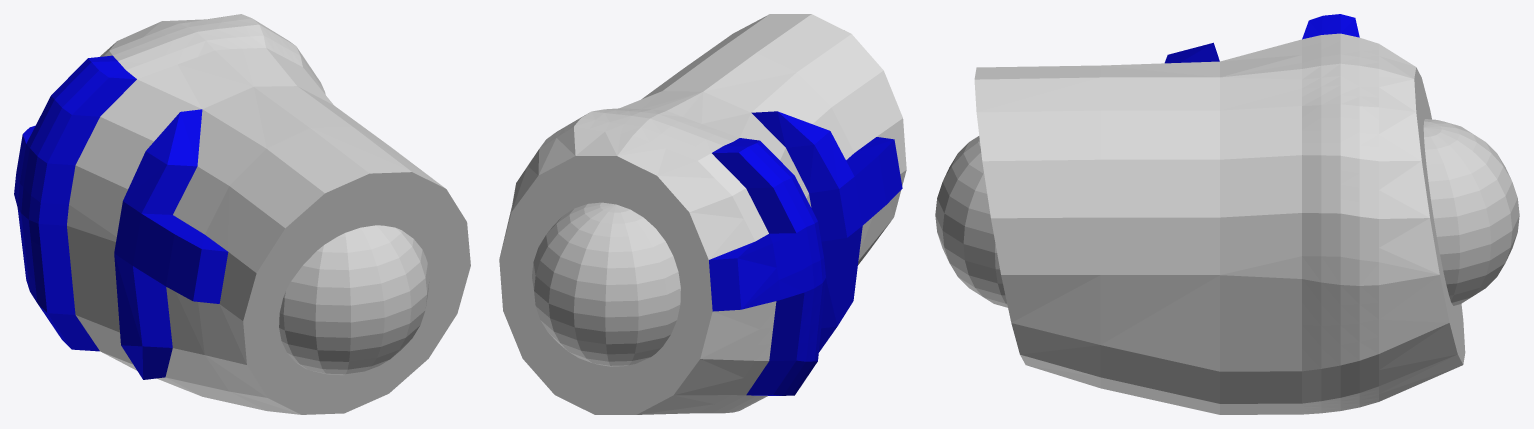
Rendered from espinillaizquierda.dae.
3 views of the same model, side by side, from view 1: azimuth 30°, elevation 25°; view 2: azimuth 150°, elevation 25°; view 3: azimuth 270°, elevation 25° (orthographic). The views are drawn at different scales.
Parts seen in each view (by area): view 1: shank_00_000, shank_00_001, shank_00_002; view 2: shank_00_000, shank_00_001, shank_00_002; view 3: shank_00_000, shank_00_002, shank_00_001.
Part boxes in pixels (<box>): shank_00_000: <box>67,14,470,414</box>; shank_00_001: <box>14,55,228,379</box>; shank_00_002: <box>279,225,429,375</box>; shank_00_000: <box>499,14,906,414</box>; shank_00_001: <box>709,111,902,395</box>; shank_00_002: <box>532,202,680,366</box>; shank_00_000: <box>974,33,1465,414</box>; shank_00_002: <box>935,119,1519,307</box>; shank_00_001: <box>1164,14,1359,63</box>.
Bounding box in the file's own units: 1.37 × 2.1 × 1.34.
